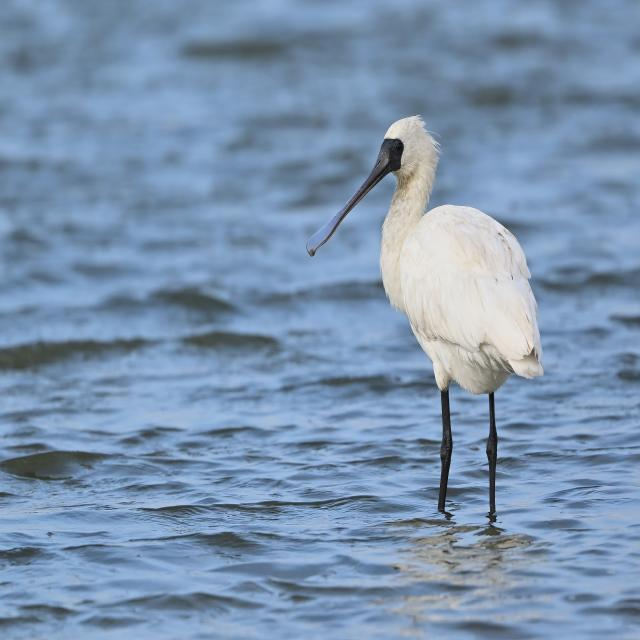Black-faced spoonbill: (307, 117, 543, 513)
